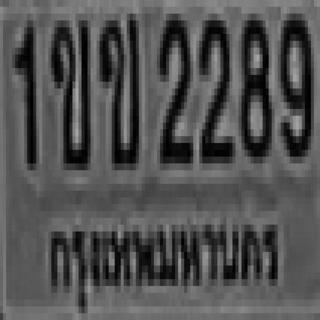A02: (97, 14, 139, 163), (48, 14, 88, 163)
N01: (12, 20, 33, 164)
N02: (157, 10, 190, 160), (196, 13, 229, 156)
N08: (238, 7, 269, 157)
N09: (278, 7, 311, 157)
P04: (43, 202, 285, 314)
